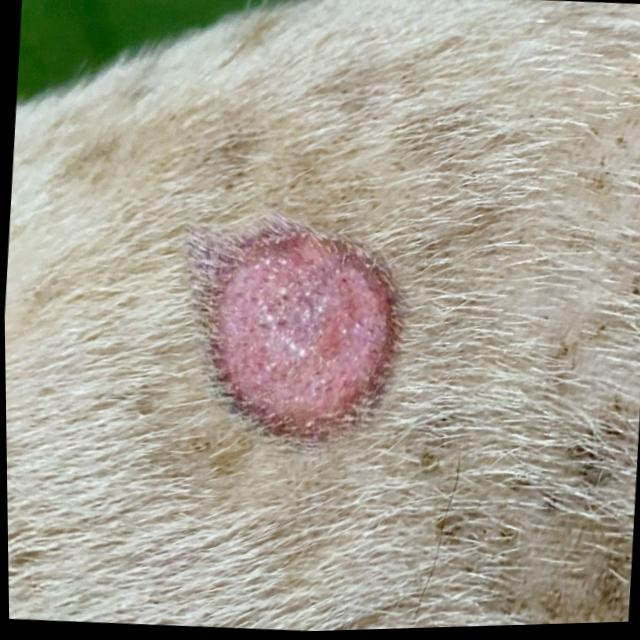ringworm: (186, 182, 415, 475)
